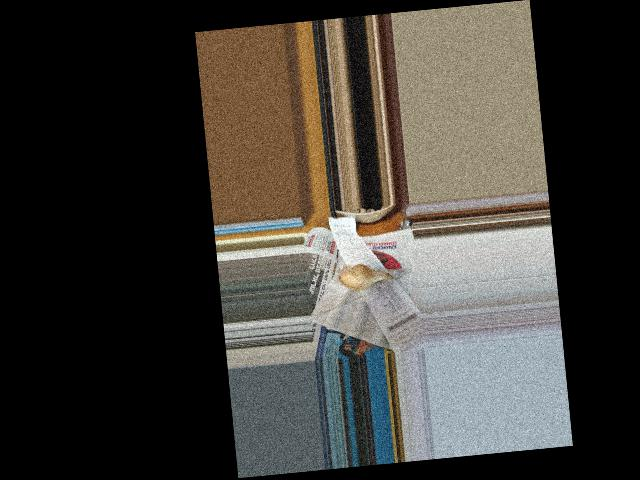onion: (340, 261, 379, 294)
